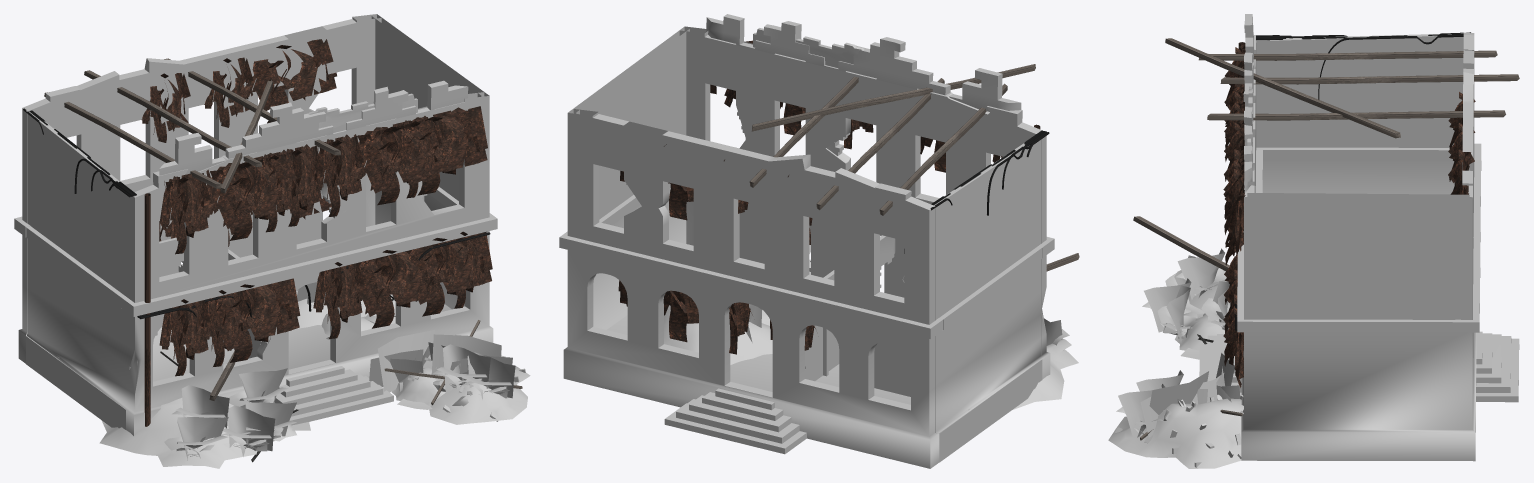
File: house yellow3_LOD0.fbx
3 views of the same model, side by side, from view 1: azimuth 30°, elevation 25°; view 2: azimuth 150°, elevation 25°; view 3: azimuth 270°, elevation 25° (orthographic). The views are drawn at different scales.
Visible parts, largest first — view 1: house_yellow3_LOD0; view 2: house_yellow3_LOD0; view 3: house_yellow3_LOD0.
Boxes of the visible parts, bbox=[...] form: house_yellow3_LOD0: bbox=[14, 14, 530, 468]; house_yellow3_LOD0: bbox=[559, 14, 1079, 468]; house_yellow3_LOD0: bbox=[1108, 14, 1519, 468].
Bounding box in the file's own units: 9.99 × 7.48 × 8.99.
